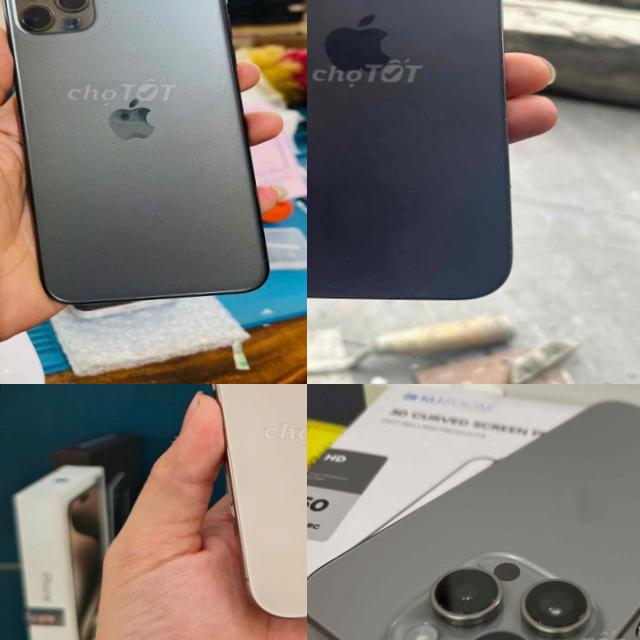gen_11: (0, 0, 288, 313)
gen_14: (307, 0, 523, 310)
gen_15: (307, 384, 640, 640)
gen_16: (212, 384, 307, 617)
